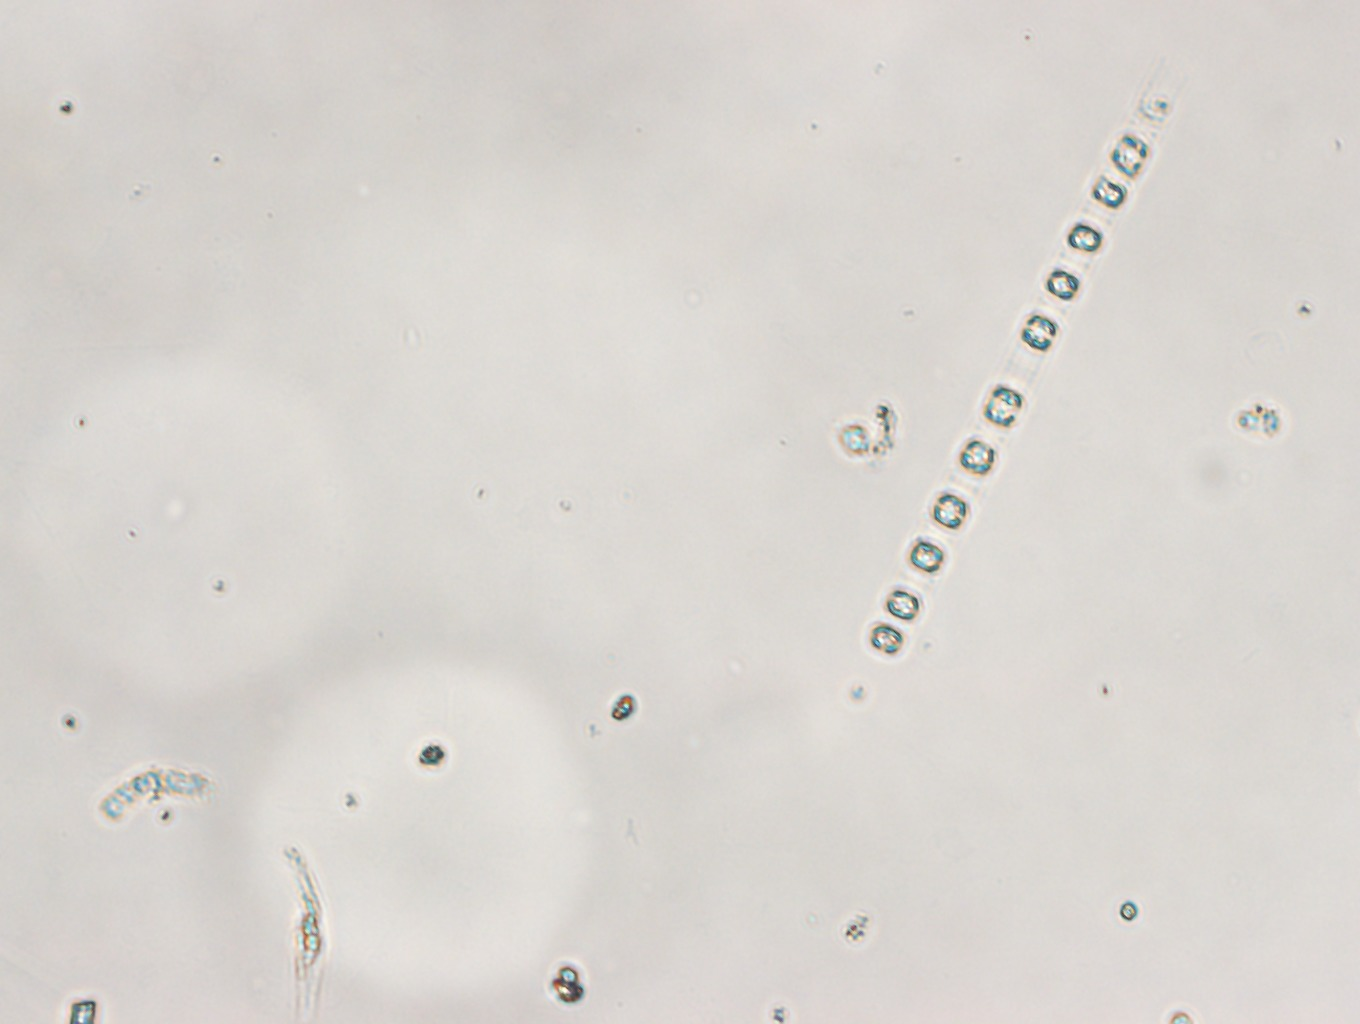skeletonema: (854, 79, 1184, 653)
